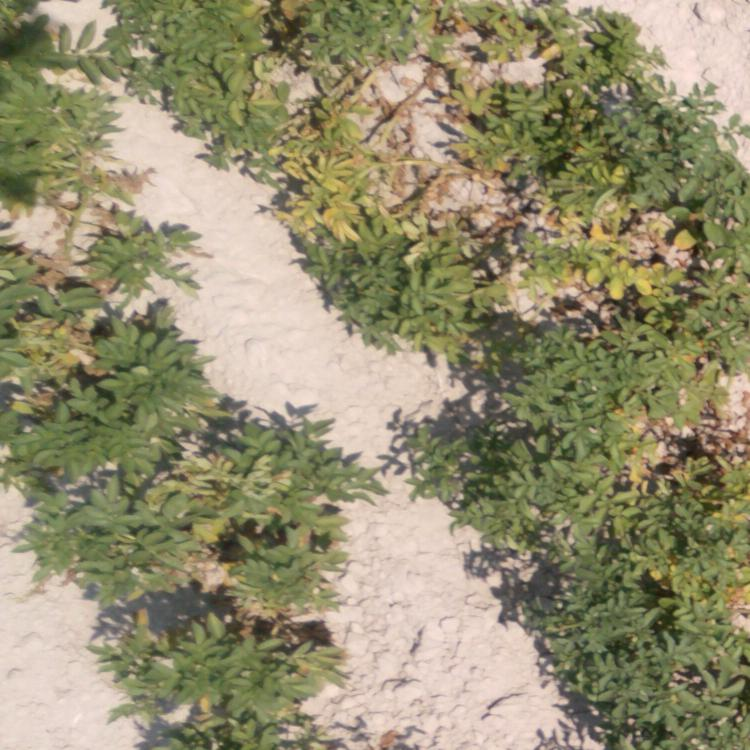healthy: (1, 416, 345, 591), (448, 358, 628, 578), (107, 610, 324, 750), (544, 611, 750, 743), (1, 1, 113, 219), (628, 87, 747, 205), (311, 250, 486, 329)
stressed: (281, 1, 439, 228), (1, 225, 191, 404), (493, 213, 728, 337), (463, 1, 612, 191), (635, 353, 750, 594), (131, 1, 256, 138)
